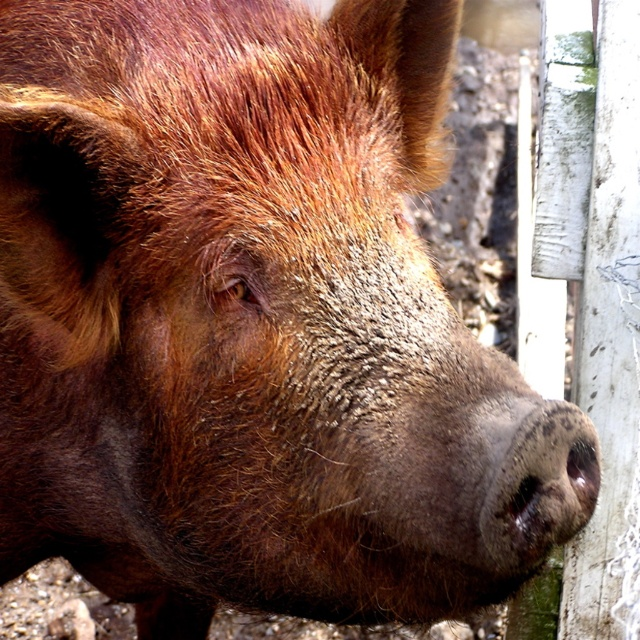Pig: (0, 0, 602, 639)
